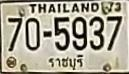0: (25, 17, 40, 51)
3: (89, 16, 104, 50)
5: (53, 16, 70, 51)
7: (106, 15, 122, 50), (8, 17, 22, 51)
9: (72, 16, 87, 50)
RBR: (46, 52, 87, 69)
